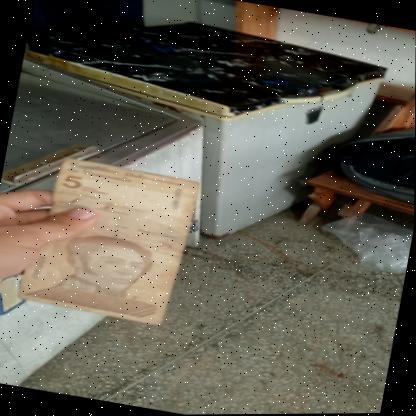five-front-vef: (15, 152, 202, 329)
